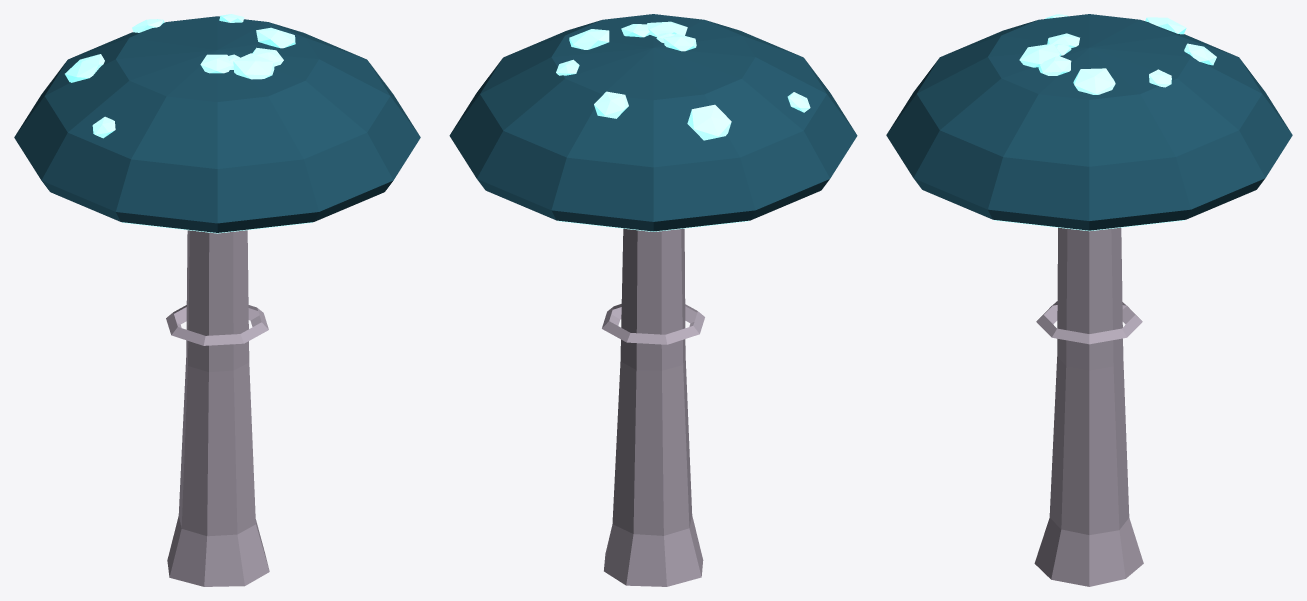
The model's file is champignon_geant_modele.glb.
3 renders of one model, left to right at view 1: azimuth 30°, elevation 25°; view 2: azimuth 150°, elevation 25°; view 3: azimuth 270°, elevation 25°, orthographic.
Visible parts, largest first — view 1: L5.002, L1.006, L3.003, P17.013, P14.016, P11.016, P16.018; view 2: L5.002, L1.006, L3.003, P14.016, P13.015, P11.016; view 3: L5.002, L1.006, L3.003, P11.016, P17.013.
Boxes of the visible parts, x1,y1,x2,y2 form: L5.002: (14, 16, 420, 232); L1.006: (167, 230, 269, 586); L3.003: (166, 305, 268, 345); P17.013: (233, 53, 274, 79); P14.016: (65, 54, 104, 82); P11.016: (256, 27, 295, 48); P16.018: (200, 54, 232, 73); L5.002: (449, 14, 857, 231); L1.006: (604, 228, 703, 586); L3.003: (602, 304, 704, 344); P14.016: (687, 104, 731, 140); P13.015: (594, 91, 628, 118); P11.016: (569, 29, 609, 49); L5.002: (886, 14, 1292, 230); L1.006: (1034, 227, 1143, 586); L3.003: (1036, 301, 1142, 344); P11.016: (1073, 68, 1115, 94); P17.013: (1019, 43, 1061, 67).
Bounding box in the file's own units: 3.2 × 4.52 × 3.2.
